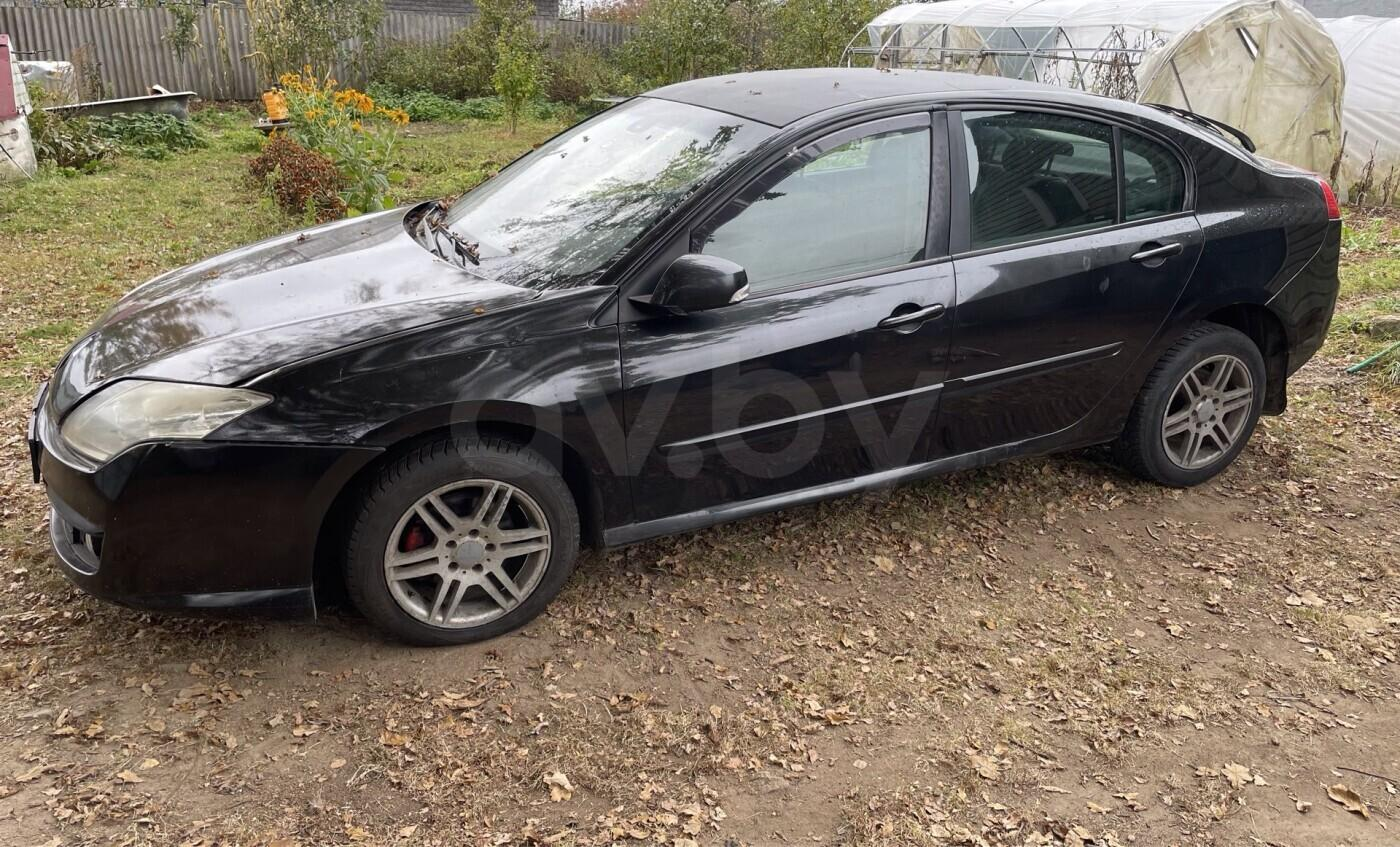Laguna_2007-2011: (26, 68, 1341, 644)
